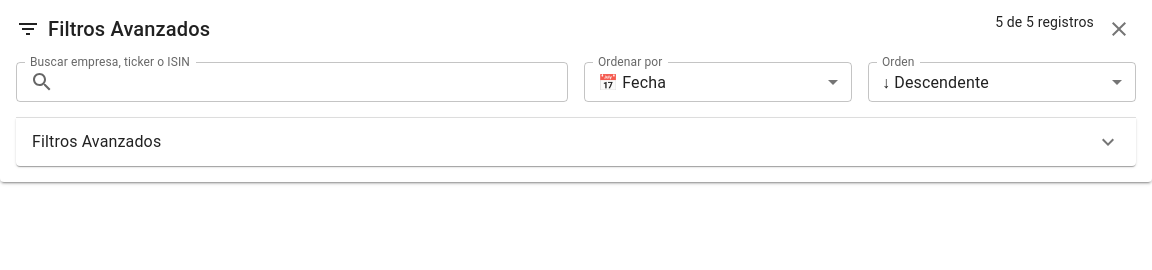
Test case: AdvancedFilters › removes the search from the active-filters chip
Type "pep" into the field labelled "Buscar empresa, ticker o ISIN". click: (315, 82)
box: [62, 62, 568, 102]
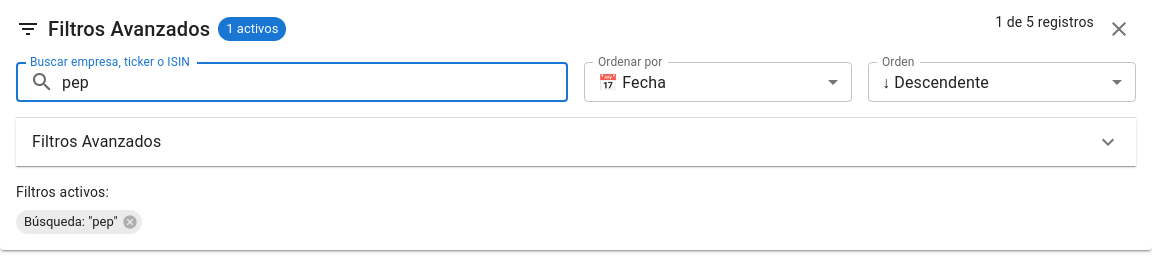
Click the icon with test id "CancelIcon". click: (130, 222)
box: [122, 214, 138, 230]
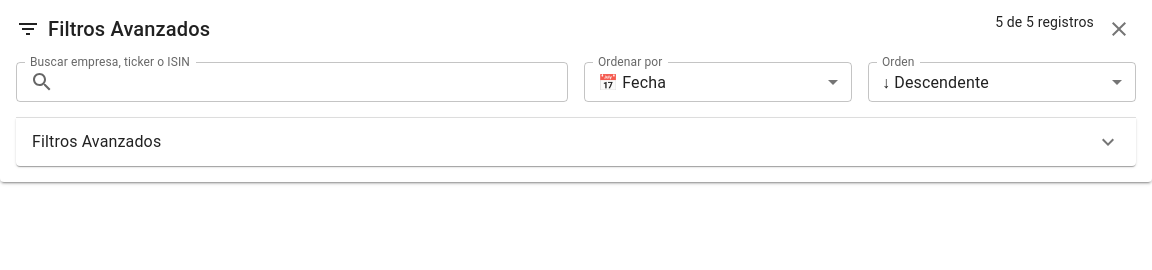
Expected: the field labelled "Buscar empresa, ticker o ISIN" is empty, [62, 62, 568, 102]
